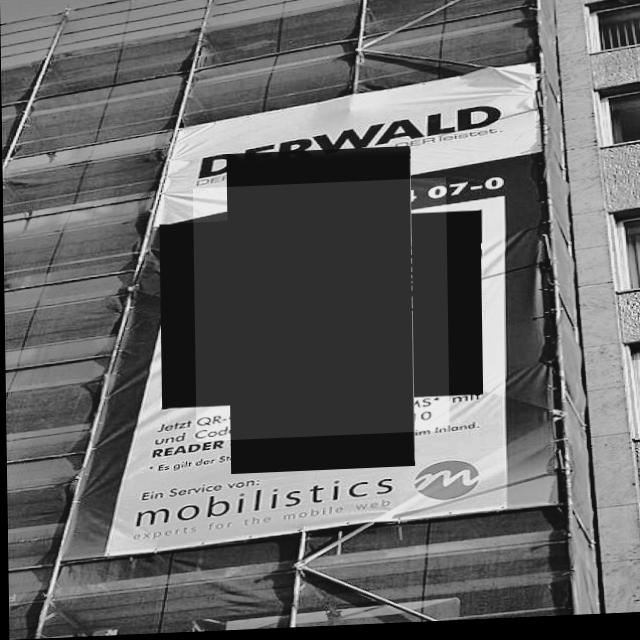qr_code: (192, 182, 448, 443)
